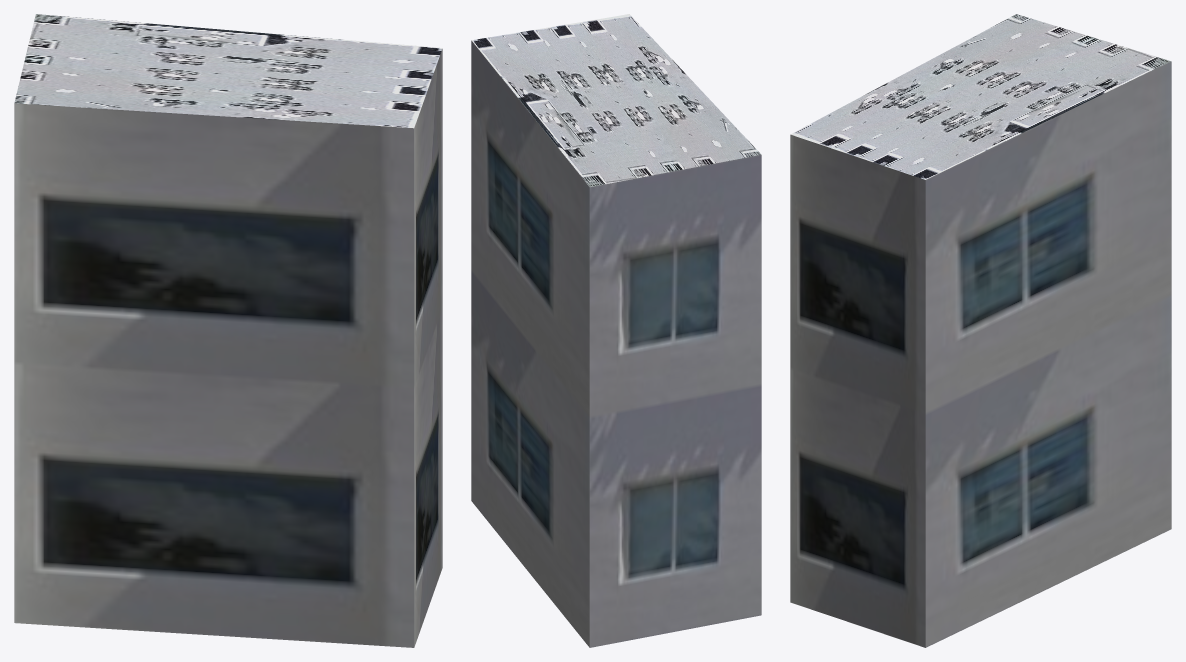
Rendered from ResTex__1097.fbx.
3 renders of one model, left to right at view 1: azimuth 30°, elevation 25°; view 2: azimuth 150°, elevation 25°; view 3: azimuth 270°, elevation 25°, orthographic. The views are drawn at different scales.
Parts seen in each view (by area): view 1: CityEngineMaterial_10_m, CityEngineMaterial_4_m; view 2: CityEngineMaterial_10_m, CityEngineMaterial_4_m; view 3: CityEngineMaterial_10_m, CityEngineMaterial_4_m.
Part boxes in pixels (x1,y1,x2,y2): CityEngineMaterial_10_m: (14, 49, 442, 647); CityEngineMaterial_4_m: (14, 14, 442, 128); CityEngineMaterial_10_m: (471, 40, 761, 647); CityEngineMaterial_4_m: (471, 14, 761, 187); CityEngineMaterial_10_m: (790, 61, 1171, 647); CityEngineMaterial_4_m: (791, 14, 1170, 179).
Size of the model in its own units: 4.57 by 6 by 4.43.
Materials: 2 (2 with a texture image).
